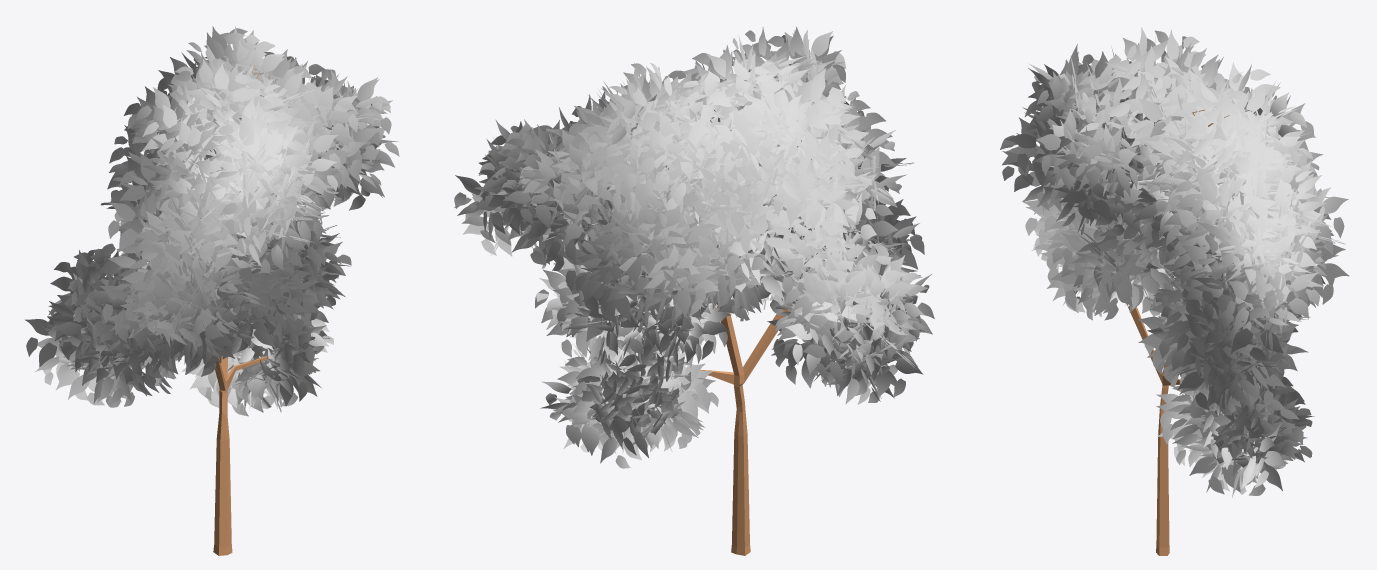
File: Tree1.fbx
3 renders of one model, left to right at view 1: azimuth 30°, elevation 25°; view 2: azimuth 150°, elevation 25°; view 3: azimuth 270°, elevation 25°, orthographic. The views are drawn at different scales.
Visible parts, largest first — view 1: Leaves, Trunk; view 2: Leaves, Trunk; view 3: Leaves, Trunk.
Part boxes in pixels (x1,y1,x2,y2): Leaves: [25, 26, 399, 416]; Trunk: [213, 65, 268, 555]; Leaves: [454, 26, 934, 468]; Trunk: [662, 81, 789, 555]; Leaves: [1000, 27, 1349, 497]; Trunk: [1126, 109, 1229, 555].
Size of what is drawn, in the model's own units: 6.81 by 7.72 by 4.99.
